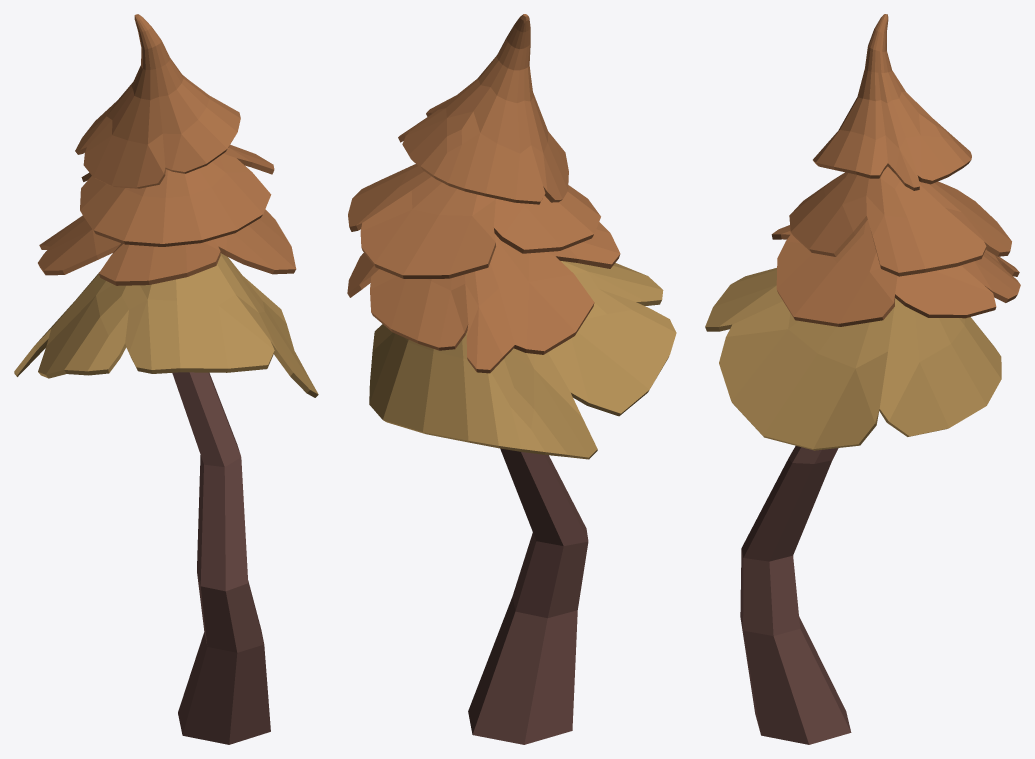
File: PineTree_Autumn_4.gltf
3 renders of one model, left to right at view 1: azimuth 30°, elevation 25°; view 2: azimuth 150°, elevation 25°; view 3: azimuth 270°, elevation 25°, orthographic. The views are drawn at different scales.
Visible parts, largest first — view 1: PineTree_Autumn_4; view 2: PineTree_Autumn_4; view 3: PineTree_Autumn_4.
Boxes of the visible parts, <box> form: PineTree_Autumn_4: <box>14,14,318,744</box>; PineTree_Autumn_4: <box>347,14,676,744</box>; PineTree_Autumn_4: <box>705,14,1020,744</box>.
Bounding box in the file's own units: 1.25 × 3.34 × 1.39.
